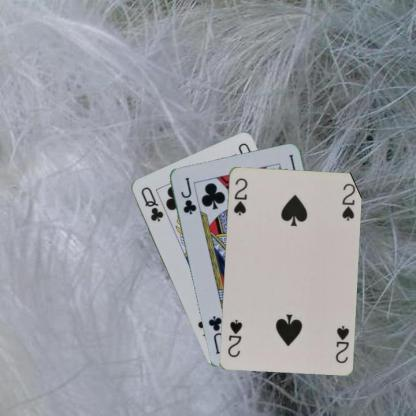2s: (230, 175, 249, 217), (332, 322, 350, 364)
Jc: (178, 174, 198, 216)
Qc: (138, 184, 165, 222)
